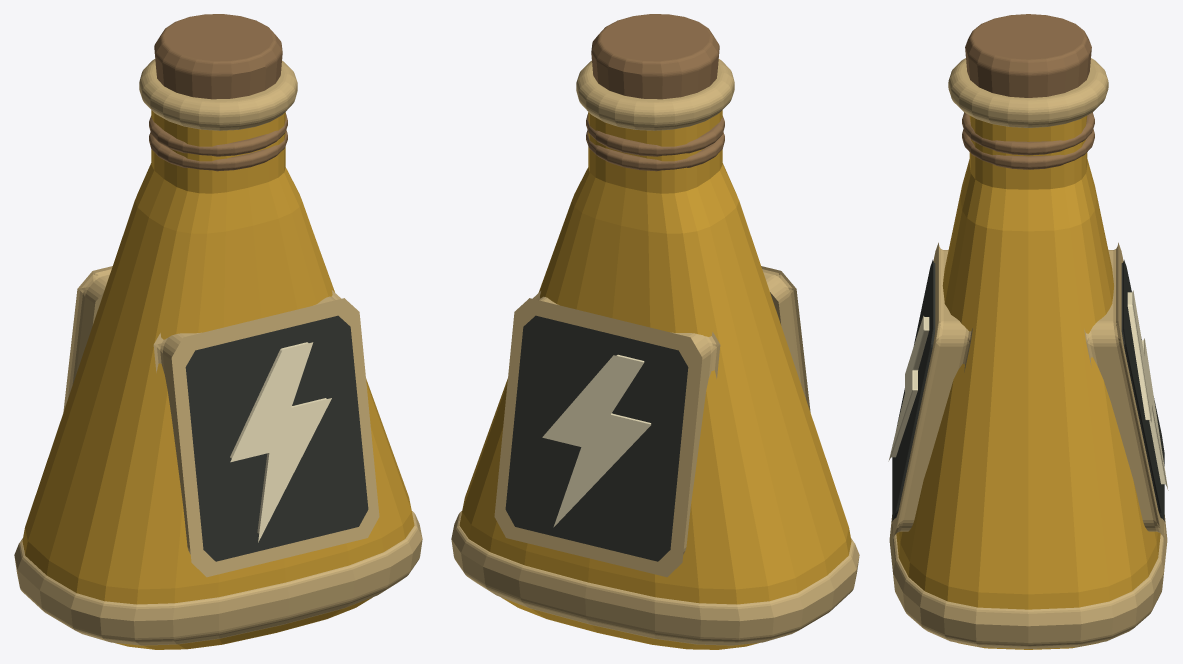
Rendered from swift_tonic.glb.
3 renders of one model, left to right at view 1: azimuth 30°, elevation 25°; view 2: azimuth 150°, elevation 25°; view 3: azimuth 270°, elevation 25°, orthographic.
Visible parts, largest first — view 1: swift_tonic; view 2: swift_tonic; view 3: swift_tonic.
Boxes of the visible parts, x1,y1,x2,y2 form: swift_tonic: (14, 14, 422, 649); swift_tonic: (451, 14, 859, 649); swift_tonic: (888, 14, 1168, 649).
Bounding box in the file's own units: 0.54 × 0.8 × 0.3709.
